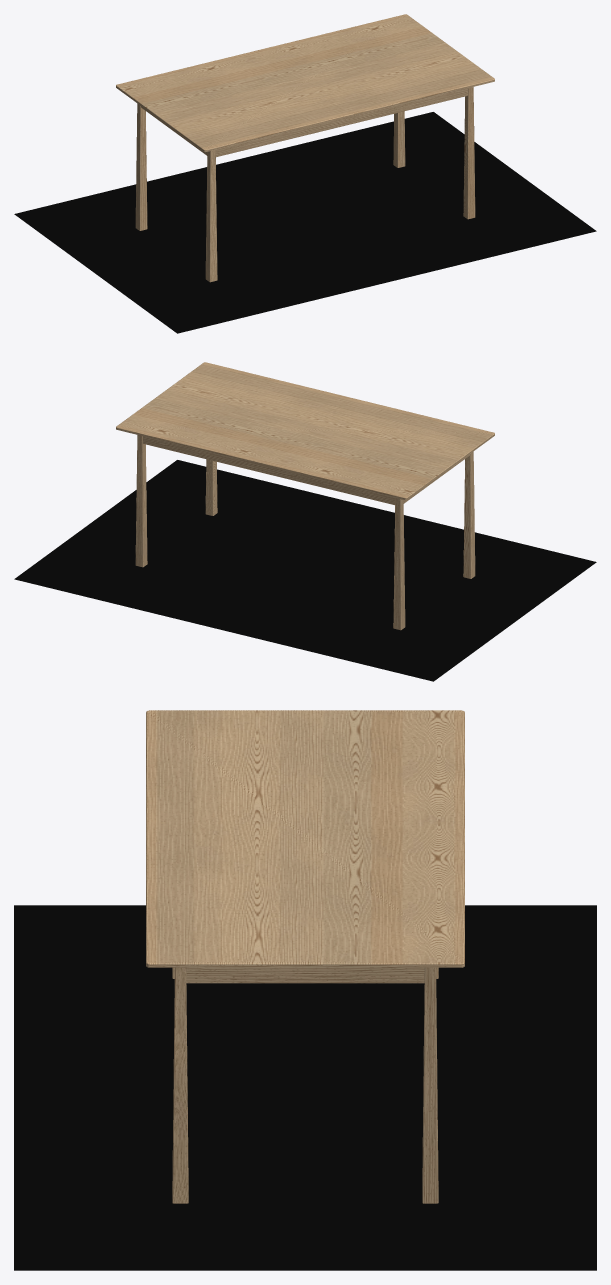
File: dining_table.glb
The picture shows the model from 3 angles, top to bottom: view 1: azimuth 30°, elevation 25°; view 2: azimuth 150°, elevation 25°; view 3: azimuth 270°, elevation 25°; orthographic projection. The views are drawn at different scales.
Parts seen in each view (by area): view 1: dining_table_Shadow, dining_table_LOD0; view 2: dining_table_Shadow, dining_table_LOD0; view 3: dining_table_Shadow, dining_table_LOD0.
Boxes of the visible parts, x1,y1,x2,y2 form: dining_table_Shadow: [14, 112, 596, 333]; dining_table_LOD0: [116, 14, 494, 282]; dining_table_Shadow: [14, 460, 596, 681]; dining_table_LOD0: [116, 362, 494, 630]; dining_table_Shadow: [14, 905, 596, 1270]; dining_table_LOD0: [146, 710, 464, 1203].
Size of what is drawn, in the model's own units: 2.3 by 0.74 by 1.55.
2 materials, 2 textured.
